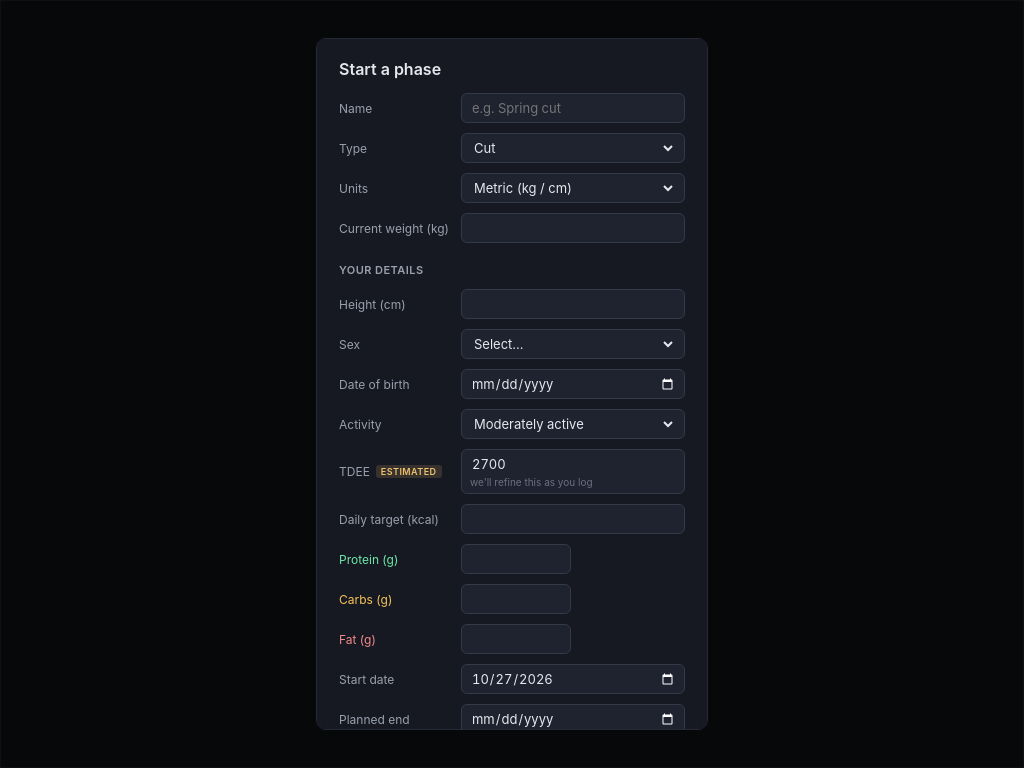
Scenario: PhaseFormModal cold-start fields (create) › updates the displayed TDEE when the activity level changes
Expected: the number field with test id "tdee" holds "2700", [470, 455, 676, 473]
Select "Very active" in the dropdown with test id "activity-level" at [573, 424], box [470, 415, 676, 433]
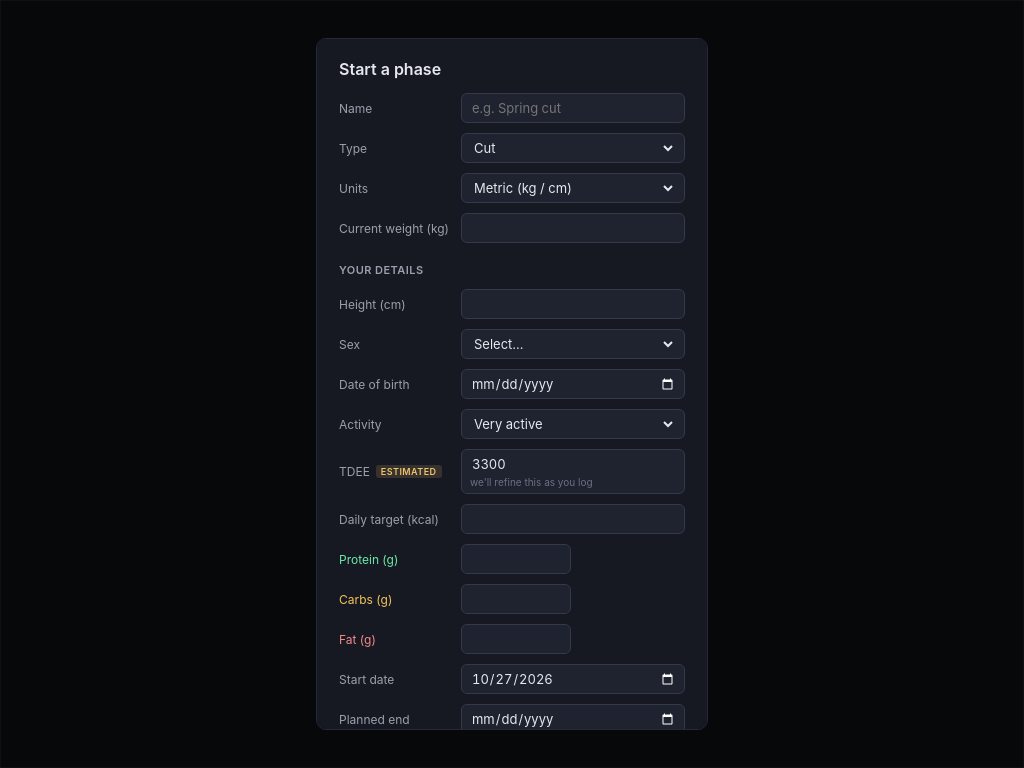
Now the number field with test id "tdee" holds "3300", box [470, 455, 676, 473]
